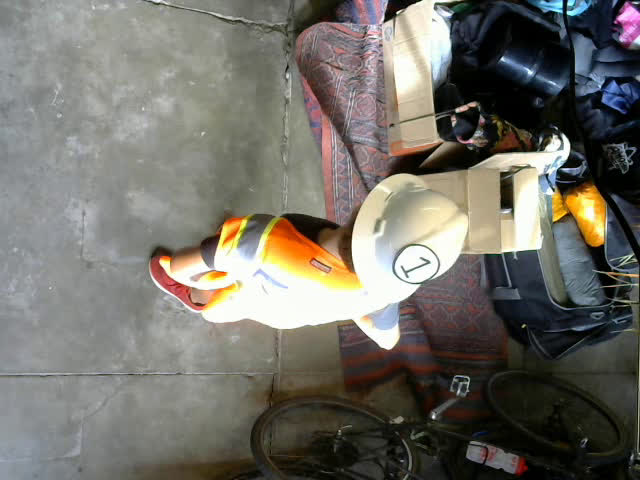one: (393, 244, 439, 283)
